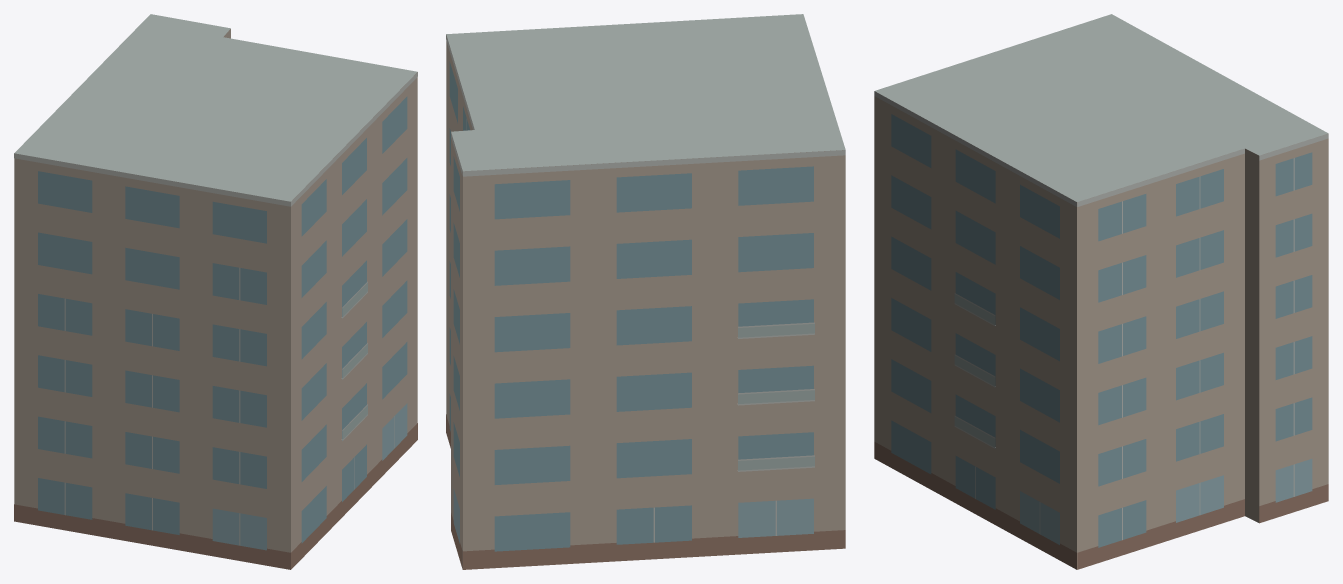
The model's file is survey-upis-32748685.glb.
The picture shows the model from 3 angles, left to right: view 1: azimuth 30°, elevation 25°; view 2: azimuth 150°, elevation 25°; view 3: azimuth 270°, elevation 25°; orthographic projection. The views are drawn at different scales.
Visible parts, largest first — view 1: survey-upis-32748685.tmp; view 2: survey-upis-32748685.tmp; view 3: survey-upis-32748685.tmp.
Boxes of the visible parts, bbox=[...] form: survey-upis-32748685.tmp: bbox=[14, 14, 417, 569]; survey-upis-32748685.tmp: bbox=[446, 14, 845, 569]; survey-upis-32748685.tmp: bbox=[874, 14, 1328, 569].
Size of the model in its own units: 19.66 by 17.9 by 20.05.
